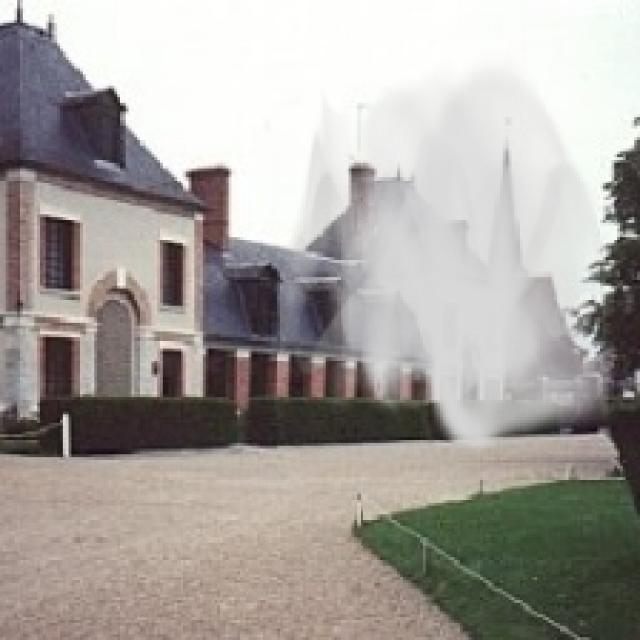smoke: (266, 49, 620, 454)
